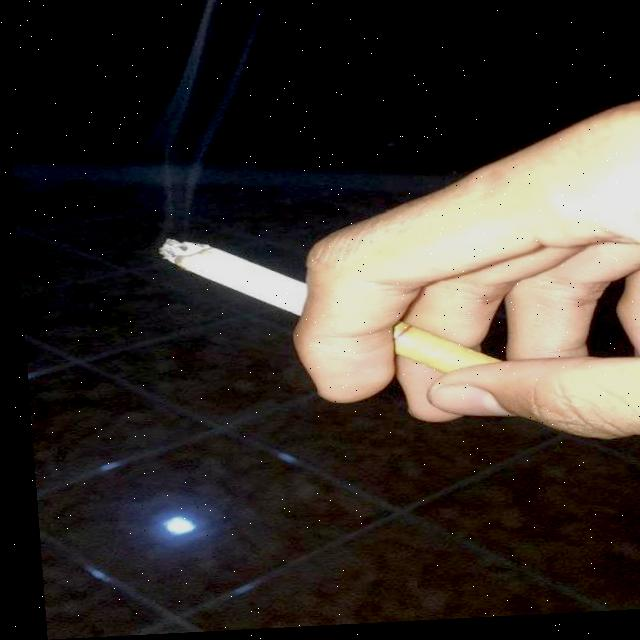cigarette: (157, 229, 494, 384)
